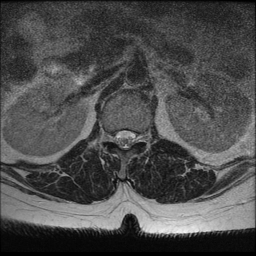CCS_normal: (121, 124, 128, 154)
LFS_normal: (136, 126, 144, 148)
LLS_normal: (129, 125, 136, 150)
RFS_normal: (106, 125, 114, 148)
RLS_normal: (114, 126, 121, 149)
